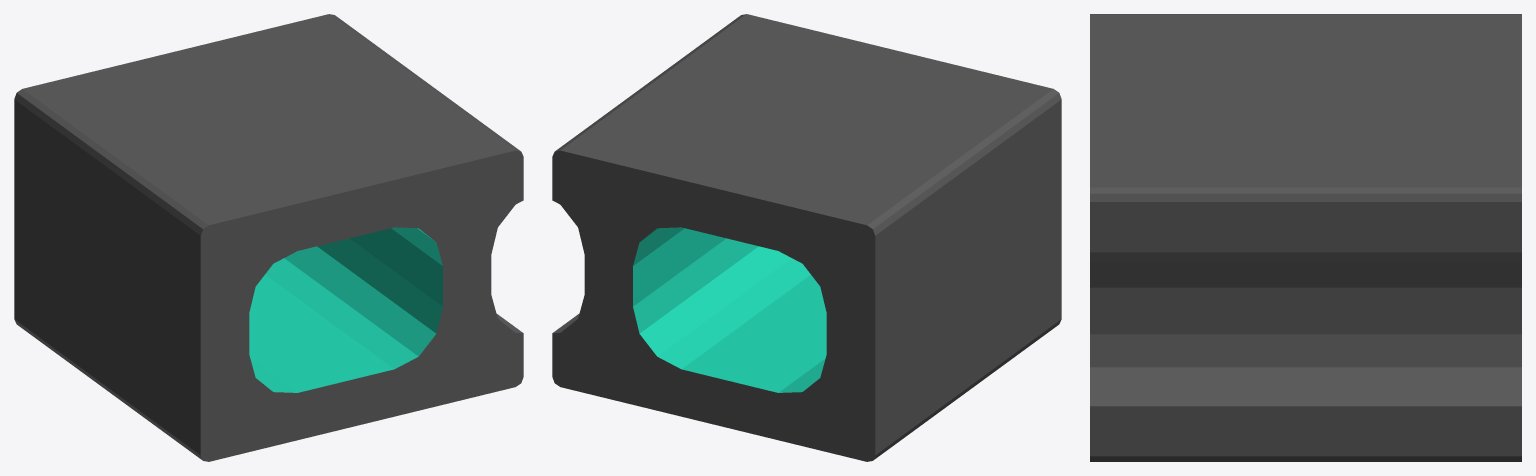
The model's file is gotosea.glb.
3 views of the same model, side by side, from view 1: azimuth 30°, elevation 25°; view 2: azimuth 150°, elevation 25°; view 3: azimuth 270°, elevation 25° (orthographic). The views are drawn at different scales.
Parts seen in each view (by area): view 1: gotosea; view 2: gotosea; view 3: gotosea.
Boxes of the visible parts, x1=… form: gotosea: x1=14, y1=14, x2=523, y2=461; gotosea: x1=552, y1=14, x2=1061, y2=461; gotosea: x1=1090, y1=14, x2=1521, y2=461.
Size of the model in its own units: 2 by 1.4 by 2.
